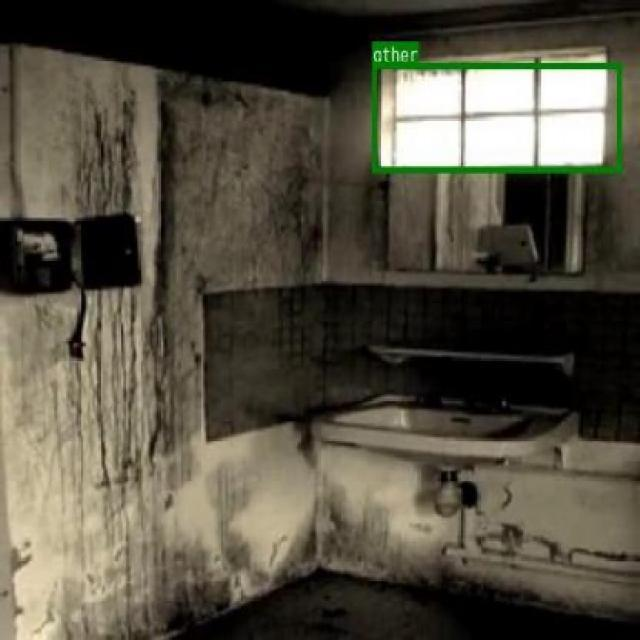other: (372, 61, 620, 170)
